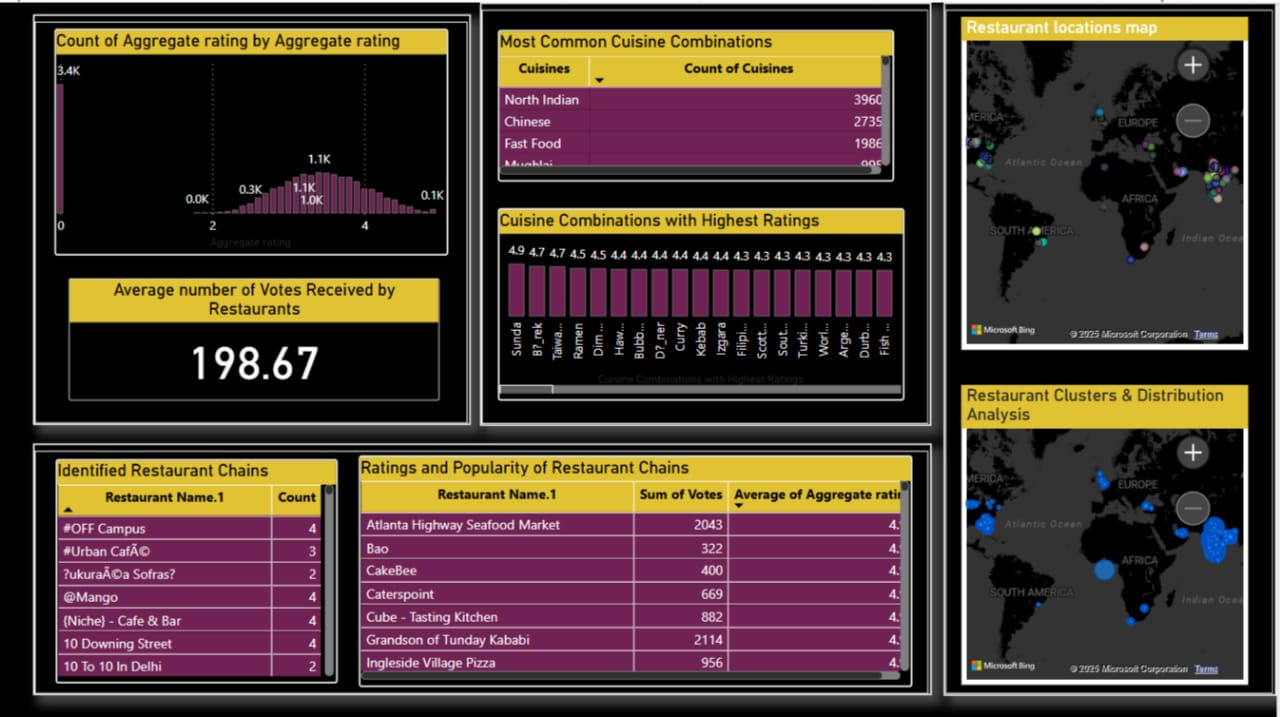

The page's visual inventory and layout, read from the dashboard file:
{"tool":"powerbi","page":{"name":"LEVEL 2","canvas":[1280,720],"ordinal":1},"visuals":[{"type":"shape","box":[34.3,11.4,438.6,411.4],"z":0},{"type":"clusteredColumnChart","fields":{"Y":["CountNonNull(Dataset_cleaned.Aggregate rating)"],"Category":["Dataset_cleaned.Aggregate rating"]},"box":[56,26.2,394,227.4],"z":1000},{"type":"card","title":"Average number of  Votes Received by Restaurants","fields":{"Values":["Avg(Dataset_cleaned.Votes)"]},"box":[70,276.2,371.2,122.5],"z":2000},{"type":"shape","box":[482.1,0,452.4,423.8],"z":3000},{"type":"pivotTable","title":"Most Common Cuisine Combinations","fields":{"Rows":["Dataset_cleaned.Cuisines"],"Values":["CountNonNull(Dataset_cleaned.Cuisines)"]},"box":[500,27.4,396.4,152.4],"z":4000},{"type":"shape","box":[946.4,0,333.3,694.1],"z":5000},{"type":"clusteredColumnChart","title":"Cuisine Combinations with Highest Ratings","fields":{"Category":["Dataset_cleaned.Cuisines"],"Y":["Avg(Dataset_cleaned.Aggregate rating)"]},"box":[500,206,407.1,192.9],"z":6000},{"type":"shape","box":[34.5,441.7,900,252.4],"z":7000},{"type":"tableEx","title":"Identified Restaurant Chains","fields":{"Values":["ChainCount.Restaurant Name.1","ChainCount.Count"]},"box":[57.1,457.1,282.1,225],"z":8000},{"type":"tableEx","title":"Ratings and Popularity of Restaurant Chains ","fields":{"Values":["Dataset_cleaned.Restaurant Name.1","Sum(Dataset_cleaned.Votes)","Avg(Dataset_cleaned.Aggregate rating)"]},"box":[360.7,453.6,554.8,232.1],"z":9000},{"type":"map","title":"Restaurant locations map","fields":{"Y":["Dataset_cleaned.Latitude"],"X":["Dataset_cleaned.Longitude"],"Series":["Dataset_cleaned.Restaurant Name.1"]},"box":[964.3,14.3,286.9,333.3],"z":10000},{"type":"map","title":"Restaurant Clusters & Distribution Analysis","fields":{"Y":["Dataset_cleaned.Latitude"],"X":["Dataset_cleaned.Longitude"],"Size":["Sum(Dataset_cleaned.Votes)"]},"box":[964.3,382.9,287.1,300],"z":11000}]}

Visuals, with their boxes in screenshot pixels (x1, y1, x2, y2), scaled from the page's 1280x720 canvas onto the 1280x717 screenshot:
shape: {"x1": 34, "y1": 11, "x2": 473, "y2": 421}
clusteredColumnChart - CountNonNull(Dataset_cleaned.Aggregate rating) x Dataset_cleaned.Aggregate rating: {"x1": 56, "y1": 26, "x2": 450, "y2": 253}
"Average number of  Votes Received by Restaurants" card: {"x1": 70, "y1": 275, "x2": 441, "y2": 397}
shape: {"x1": 482, "y1": 0, "x2": 934, "y2": 422}
"Most Common Cuisine Combinations" pivotTable: {"x1": 500, "y1": 27, "x2": 896, "y2": 179}
shape: {"x1": 946, "y1": 0, "x2": 1279, "y2": 691}
"Cuisine Combinations with Highest Ratings" clusteredColumnChart: {"x1": 500, "y1": 205, "x2": 907, "y2": 397}
shape: {"x1": 34, "y1": 440, "x2": 934, "y2": 691}
"Identified Restaurant Chains" tableEx: {"x1": 57, "y1": 455, "x2": 339, "y2": 679}
"Ratings and Popularity of Restaurant Chains " tableEx: {"x1": 361, "y1": 452, "x2": 916, "y2": 683}
"Restaurant locations map" map: {"x1": 964, "y1": 14, "x2": 1251, "y2": 346}
"Restaurant Clusters & Distribution Analysis" map: {"x1": 964, "y1": 381, "x2": 1251, "y2": 680}
